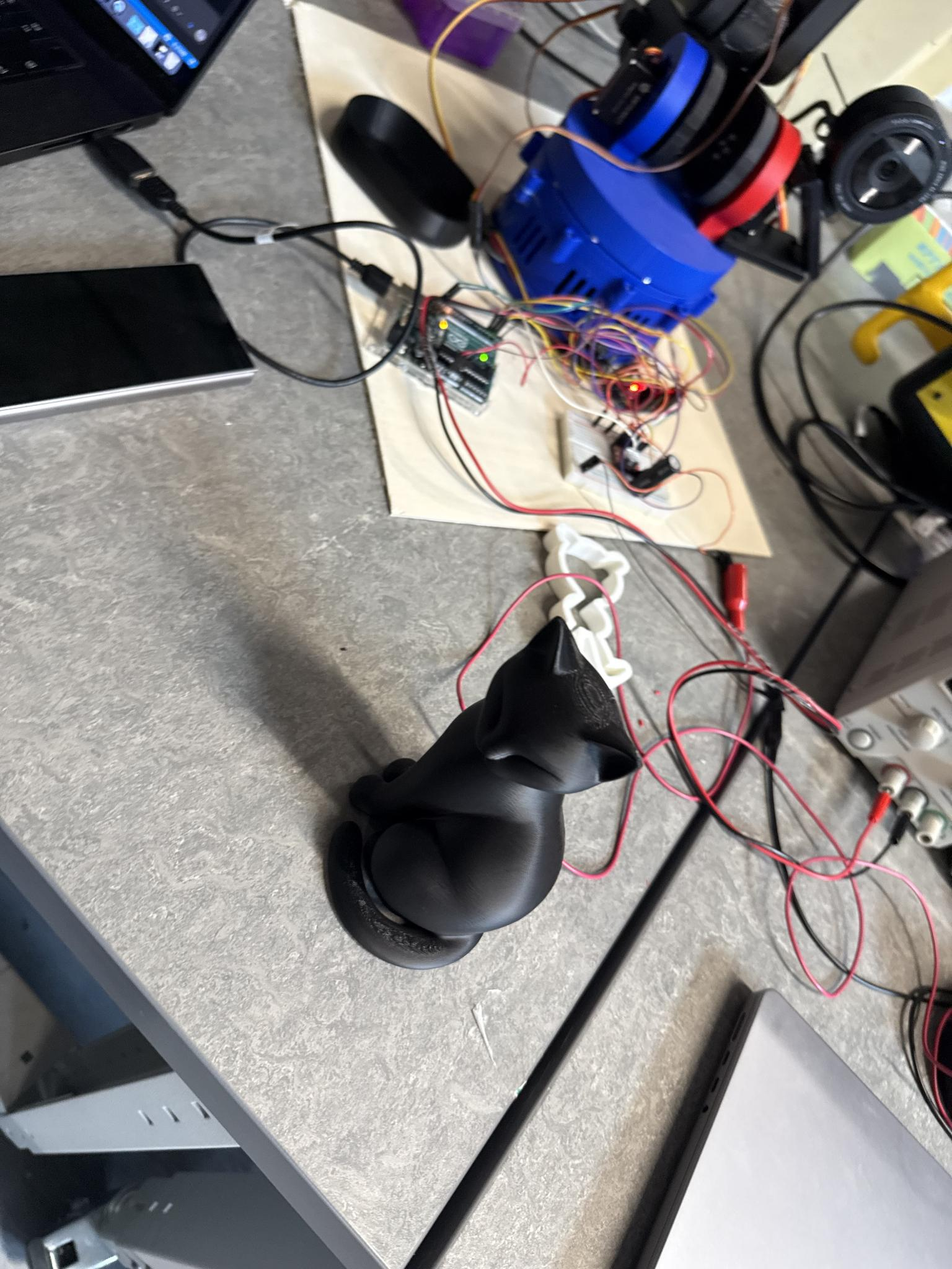cat: (322, 618, 639, 972)
